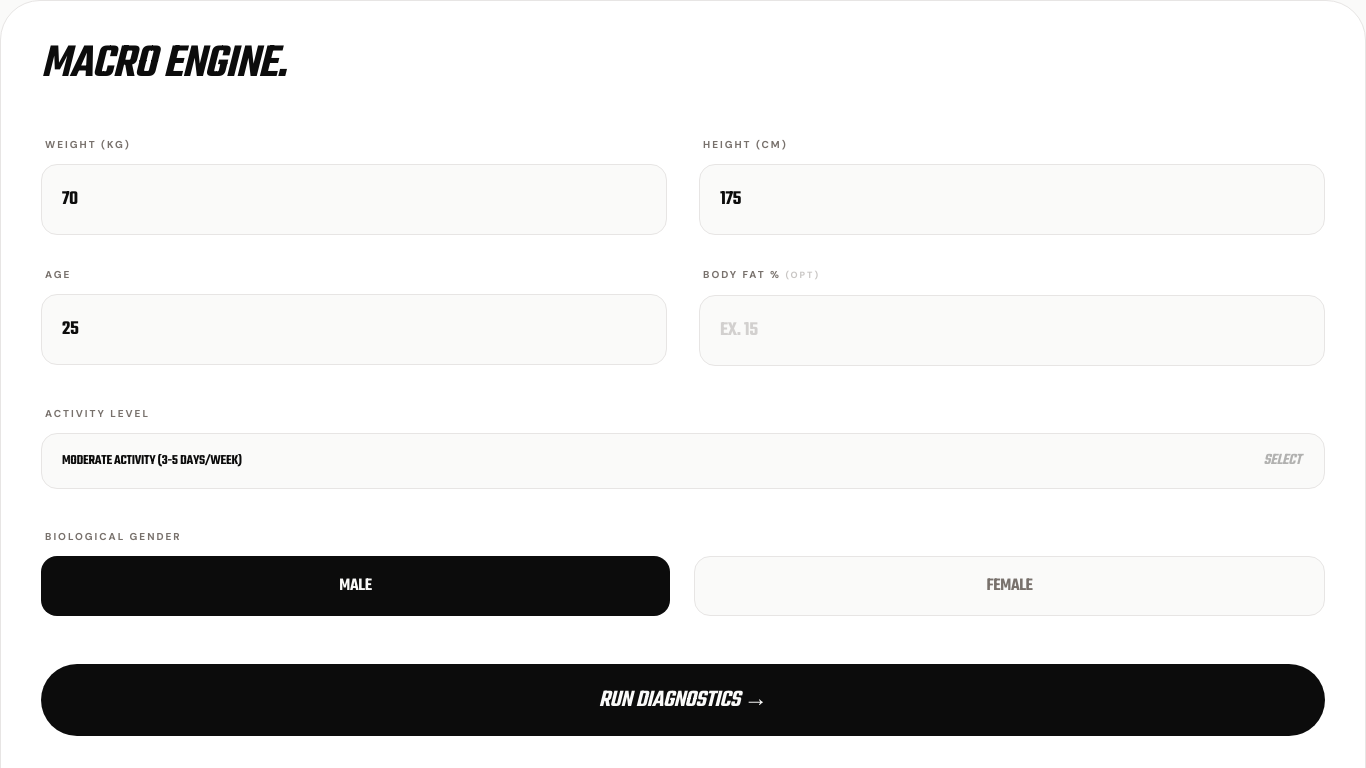
Test: MacroCalculator › updates inputs and recalculates
The width and height of the screenshot is (1366, 768).
Replace the text in the number field showing "70" below "Weight (kg)" with "80" at (354, 200), box [41,164,667,235]
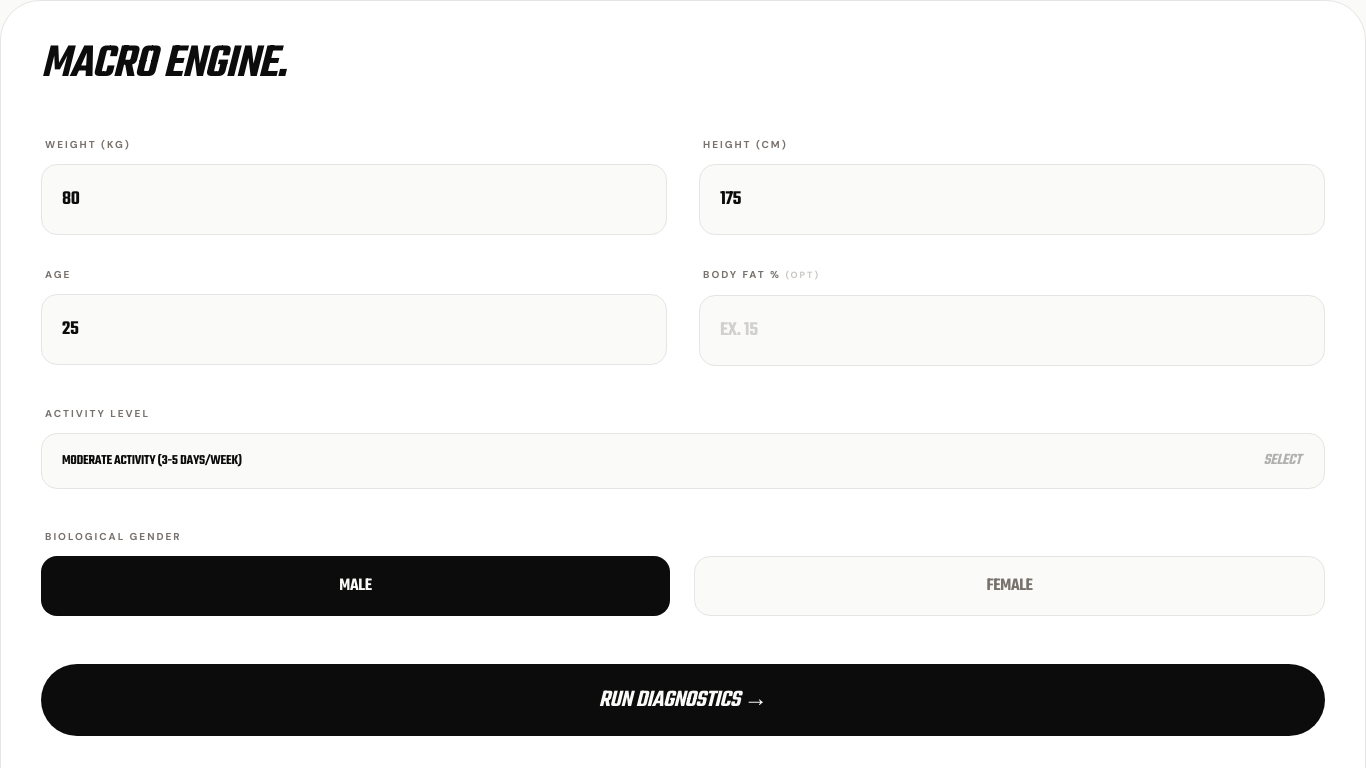
Click the button "Run Diagnostics →" at (683, 700), box [41,664,1325,736]
(page scrolled)
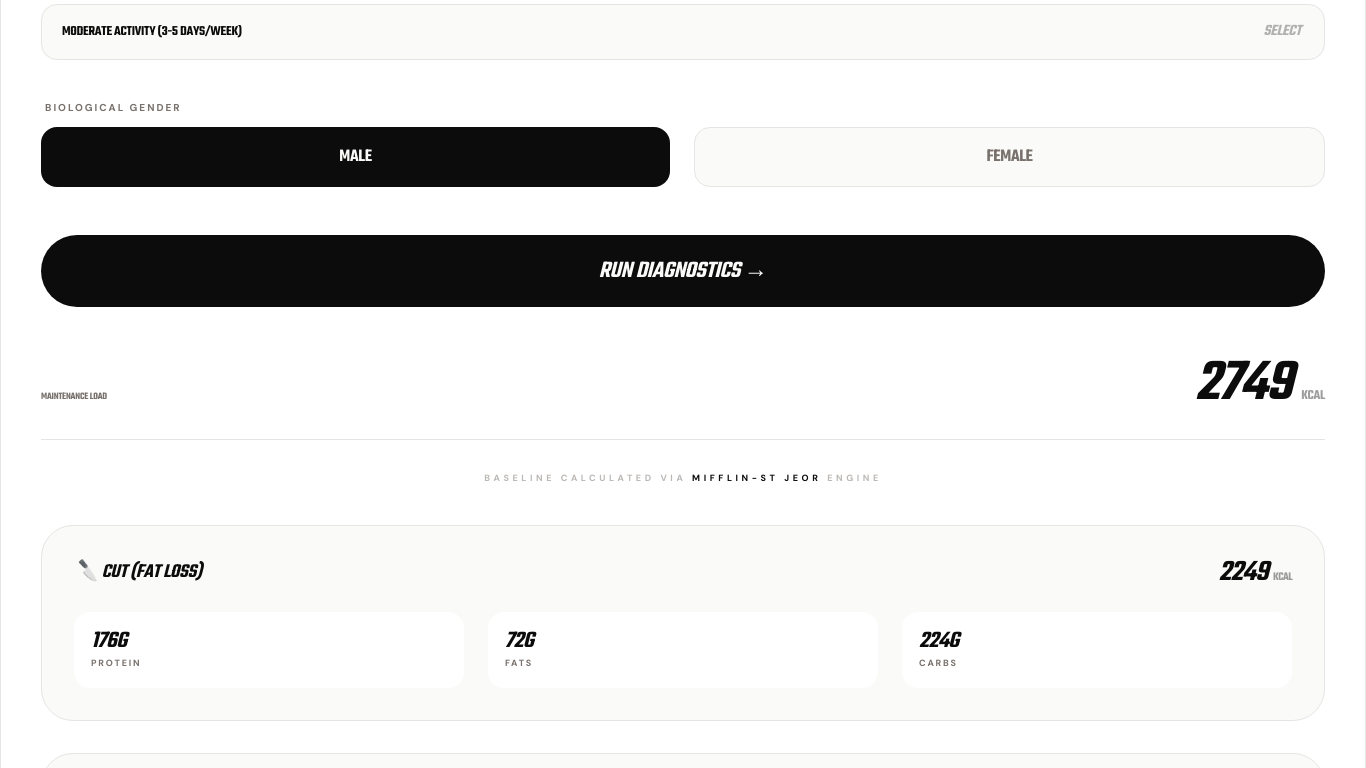
Result: the text "2749 kcal" is shown at [1195,354,1325,414]
